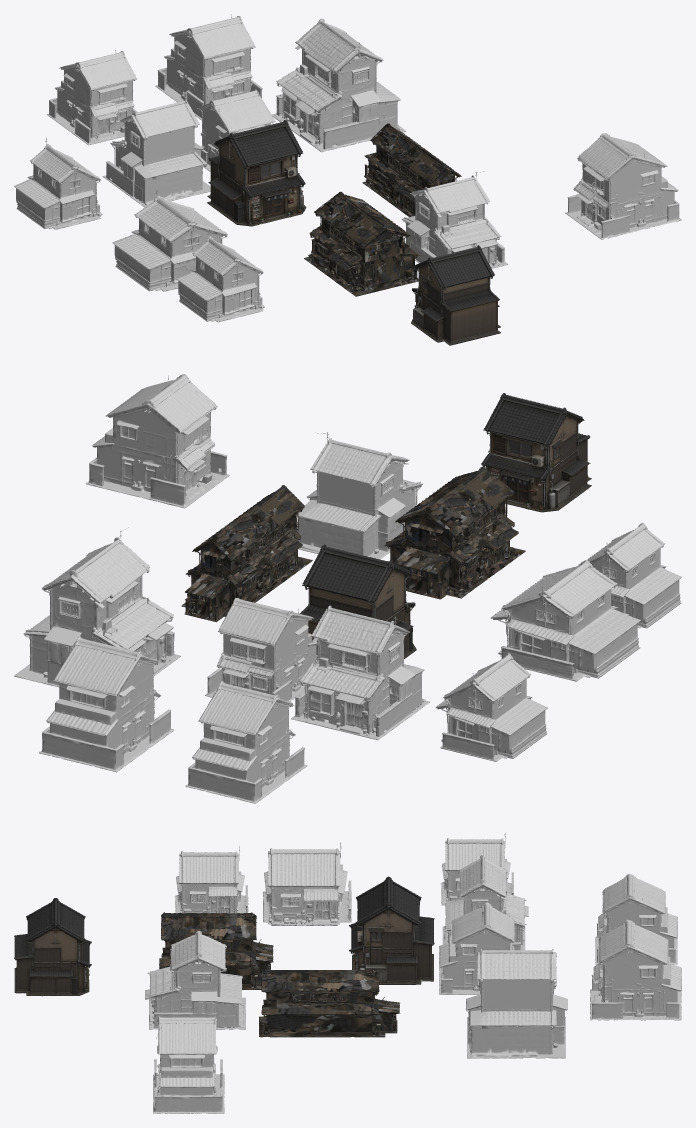
File: Street_H.fbx
3 views of the same model, one above another, from view 1: azimuth 30°, elevation 25°; view 2: azimuth 150°, elevation 25°; view 3: azimuth 270°, elevation 25° (orthographic). The views are drawn at different scales.
Visible parts, largest first — view 1: tripo_node_836ebc4a.003, tripo_node_8f63acc9.002, tripo_node_ae90692d.002, tripo_node_4df0cf0d.001, tripo_node_836ebc4a.002, tripo_node_ae90692d, tripo_node_8f63acc9.003, tripo_node_8a8a5d5c.003, tripo_node_836ebc4a.001, tripo_node_8f63acc9.001, tripo_node_8a8a5d5c.001, tripo_node_8a8a5d5c.002 (+2 smaller); view 2: tripo_node_8f63acc9.002, tripo_node_836ebc4a.003, tripo_node_836ebc4a.002, tripo_node_8f63acc9.003, tripo_node_8a8a5d5c.003, tripo_node_4df0cf0d.001, tripo_node_836ebc4a.001, tripo_node_8f63acc9.001, tripo_node_4df0cf0d.002, tripo_node_ae90692d, tripo_node_8a8a5d5c.002, tripo_node_8f63acc9.004 (+2 smaller); view 3: tripo_node_836ebc4a.003, tripo_node_4df0cf0d.002, tripo_node_8f63acc9.003, tripo_node_ae90692d.002, tripo_node_836ebc4a.001, tripo_node_8a8a5d5c.003, tripo_node_8f63acc9.002, tripo_node_ae90692d, tripo_node_4df0cf0d.001, tripo_node_8f63acc9.004, tripo_node_8a8a5d5c.001, tripo_node_8f63acc9.001 (+2 smaller).
Boxes of the visible parts, x1,y1,x2,y2 form: tripo_node_836ebc4a.003: (272,18,406,152); tripo_node_8f63acc9.002: (565,133,681,239); tripo_node_ae90692d.002: (207,120,306,226); tripo_node_4df0cf0d.001: (304,191,419,296); tripo_node_836ebc4a.002: (102,99,210,207); tripo_node_ae90692d: (411,245,500,345); tripo_node_8f63acc9.003: (155,14,262,120); tripo_node_8a8a5d5c.003: (112,189,227,291); tripo_node_836ebc4a.001: (401,171,508,268); tripo_node_8f63acc9.001: (47,50,137,145); tripo_node_8a8a5d5c.001: (176,230,264,322); tripo_node_8a8a5d5c.002: (14,137,102,229); tripo_node_8f63acc9.002: (86,374,229,508); tripo_node_836ebc4a.003: (14,527,180,687); tripo_node_836ebc4a.002: (291,605,429,740); tripo_node_8f63acc9.003: (39,636,174,772); tripo_node_8a8a5d5c.003: (490,560,640,681); tripo_node_4df0cf0d.001: (384,466,525,599); tripo_node_836ebc4a.001: (296,432,422,559); tripo_node_8f63acc9.001: (185,681,307,803); tripo_node_4df0cf0d.002: (181,485,312,622); tripo_node_ae90692d: (481,393,591,512); tripo_node_8a8a5d5c.002: (435,653,547,761); tripo_node_8f63acc9.004: (205,597,317,701); tripo_node_836ebc4a.003: (465,943,567,1058); tripo_node_4df0cf0d.002: (259,969,400,1037); tripo_node_8f63acc9.003: (590,919,681,1020); tripo_node_ae90692d.002: (349,876,434,984); tripo_node_836ebc4a.001: (145,930,245,1029); tripo_node_8a8a5d5c.003: (262,842,351,925); tripo_node_8f63acc9.002: (153,1016,224,1113); tripo_node_ae90692d: (14,898,91,996); tripo_node_4df0cf0d.001: (159,912,273,989); tripo_node_8f63acc9.004: (439,902,514,994); tripo_node_8a8a5d5c.001: (175,845,248,913); tripo_node_8f63acc9.001: (595,873,677,964).
Size of the model in its own units: 4428 by 835 by 5342.
